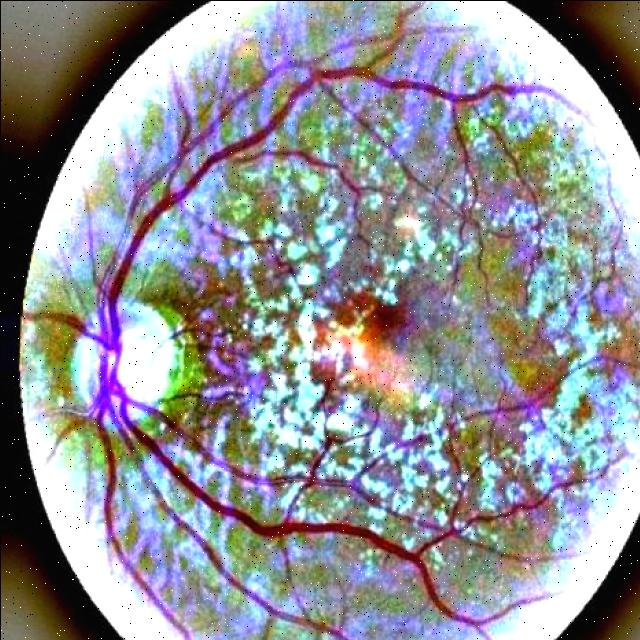Macula: (312, 279, 419, 353)
Nerves: (87, 18, 516, 388), (93, 377, 559, 624)
Optic Disk: (54, 284, 191, 439)
